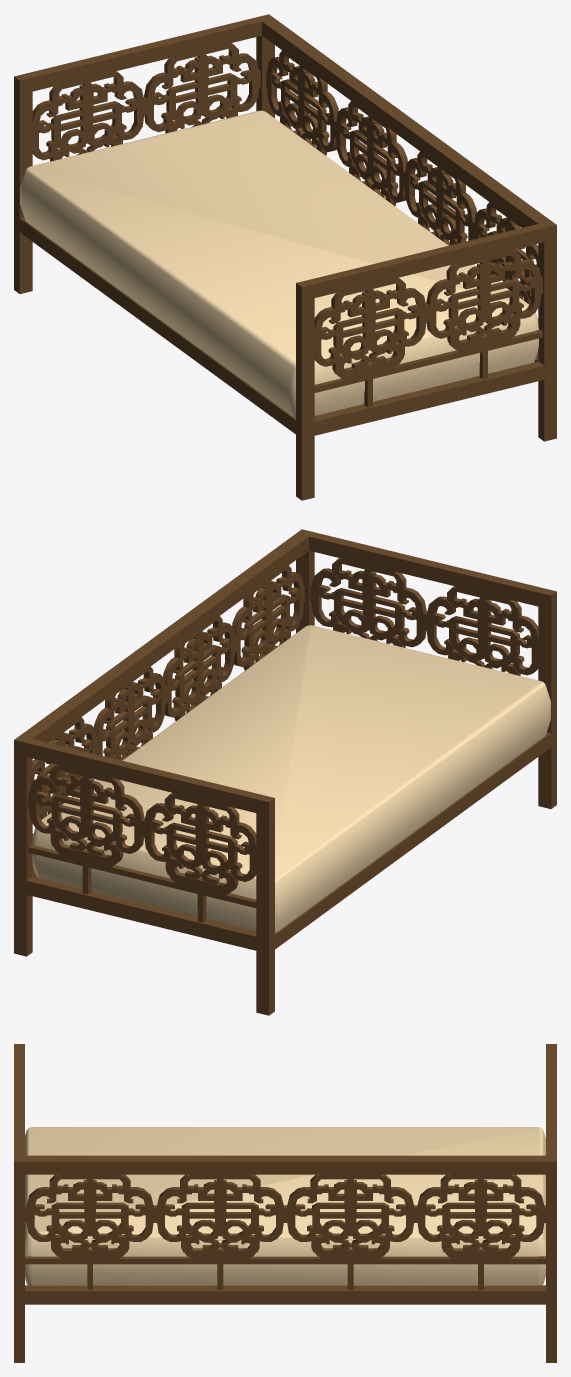
File: sofa.fbx
3 renders of one model, top to bottom at view 1: azimuth 30°, elevation 25°; view 2: azimuth 150°, elevation 25°; view 3: azimuth 270°, elevation 25°, orthographic. The views are drawn at different scales.
Parts seen in each view (by area): view 1: Component_6_1, Component_2_2, Component_2_1, Component_5_2, Component_5_1, Component_1_2, Component_1_12, Component_1_1, Component_1_11, Component_1_14, Component_1_16, Component_1_13 (+10 smaller); view 2: Component_6_1, Component_2_1, Component_2_2, Component_5_2, Component_5_1, Component_1_14, Component_1_16, Component_1_13, Component_1_15, Component_1_2, Component_1_12, Component_1_11 (+10 smaller); view 3: Component_6_1, Component_5_2, Component_5_3, Component_13_3, Component_1_9, Component_1_6, Component_1_10, Component_1_5, Component_1_4, Component_1_7, Component_1_3, Component_1_8 (+2 smaller).
Part boxes in pixels (x1,y1,x2,y2): Component_6_1: [20, 110, 538, 417]; Component_2_2: [296, 221, 556, 500]; Component_2_1: [14, 14, 274, 293]; Component_5_2: [262, 18, 550, 227]; Component_5_1: [19, 217, 295, 434]; Component_1_2: [426, 256, 485, 351]; Component_1_12: [314, 284, 370, 380]; Component_1_1: [483, 249, 542, 345]; Component_1_11: [368, 277, 427, 373]; Component_1_14: [143, 50, 203, 133]; Component_1_16: [32, 78, 87, 161]; Component_1_13: [201, 43, 260, 124]; Component_6_1: [32, 625, 550, 932]; Component_2_1: [14, 736, 274, 1015]; Component_2_2: [296, 529, 556, 808]; Component_5_2: [20, 533, 308, 742]; Component_5_1: [275, 732, 551, 949]; Component_1_14: [85, 771, 144, 867]; Component_1_16: [200, 799, 256, 895]; Component_1_13: [28, 764, 87, 860]; Component_1_15: [143, 792, 202, 888]; Component_1_2: [367, 565, 426, 647]; Component_1_12: [482, 593, 538, 675]; Component_1_11: [425, 586, 484, 666]; Component_6_1: [25, 1127, 545, 1285]; Component_5_2: [25, 1155, 545, 1174]; Component_5_3: [25, 1285, 545, 1304]; Component_13_3: [25, 1256, 545, 1264]; Component_1_9: [350, 1174, 415, 1258]; Component_1_6: [155, 1174, 220, 1258]; Component_1_10: [285, 1174, 350, 1258]; Component_1_5: [220, 1174, 285, 1258]; Component_1_4: [415, 1174, 480, 1258]; Component_1_7: [90, 1174, 155, 1258]; Component_1_3: [481, 1174, 545, 1258]; Component_1_8: [25, 1174, 89, 1258].
Bounding box in the file's own units: 95.92 × 76 × 186.
